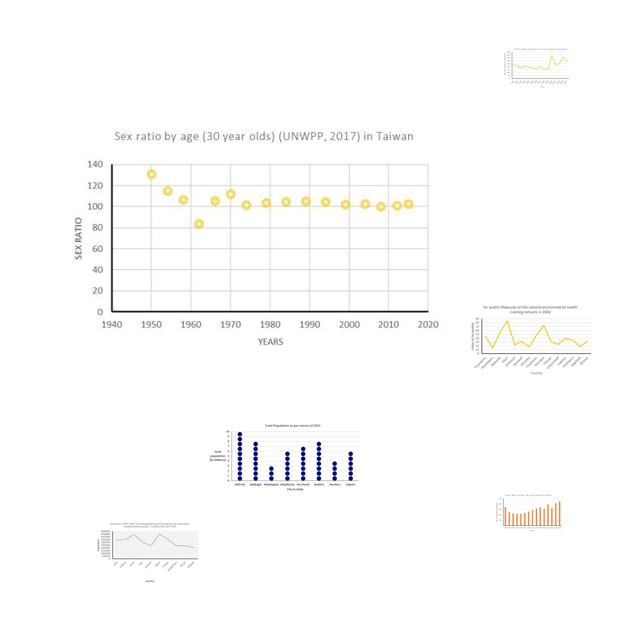Graph: (65, 123, 444, 348), (208, 423, 360, 493), (467, 303, 593, 378), (95, 521, 200, 583), (503, 47, 570, 89), (494, 493, 563, 533)
